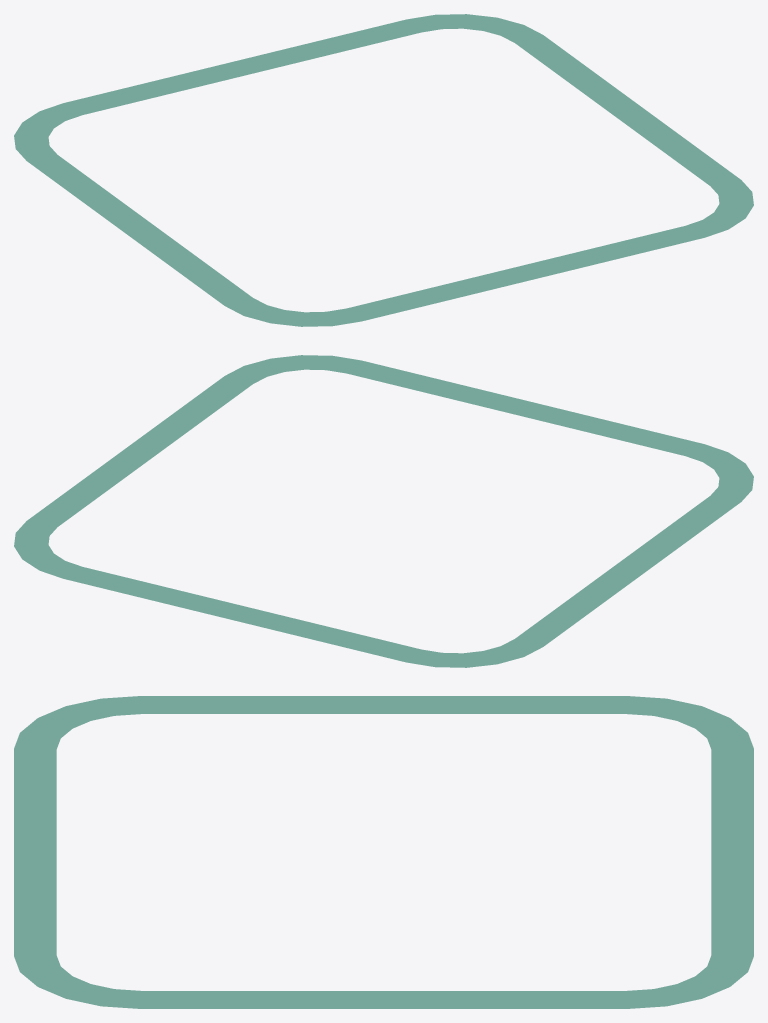
File: webslinger_chatGPT.glb
3 renders of one model, top to bottom at view 1: azimuth 30°, elevation 25°; view 2: azimuth 150°, elevation 25°; view 3: azimuth 270°, elevation 25°, orthographic. The views are drawn at different scales.
Parts seen in each view (by area): view 1: webslinger_flat; view 2: webslinger_flat; view 3: webslinger_flat.
Part boxes in pixels (box(x1,y1,x2,y2)): webslinger_flat: box(14, 14, 753, 326); webslinger_flat: box(14, 355, 753, 667); webslinger_flat: box(14, 696, 753, 1008).
Bounding box in the file's own units: 1.06 × 0 × 1.06.
